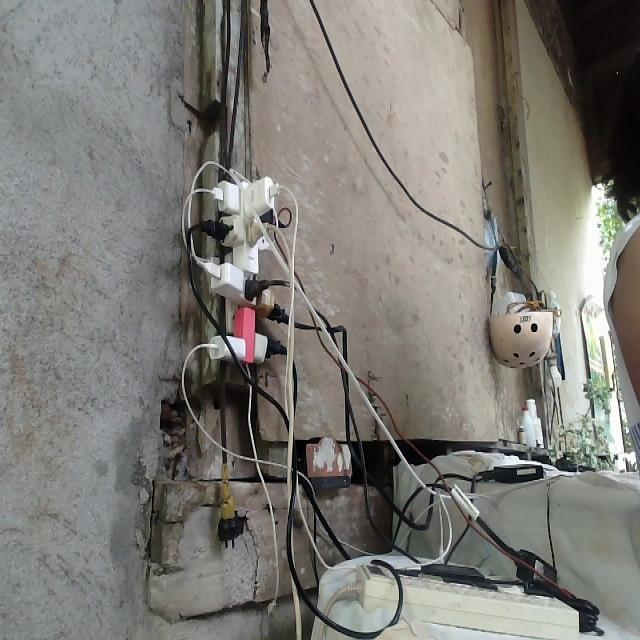-: (180, 157, 297, 363)
